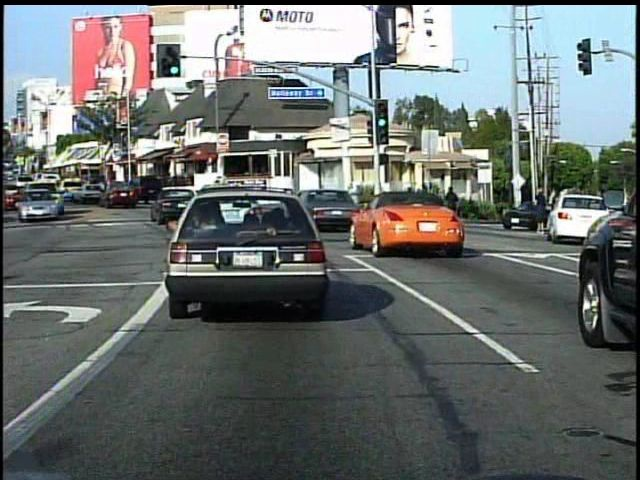person: (531, 180, 548, 239), (444, 183, 461, 226)
